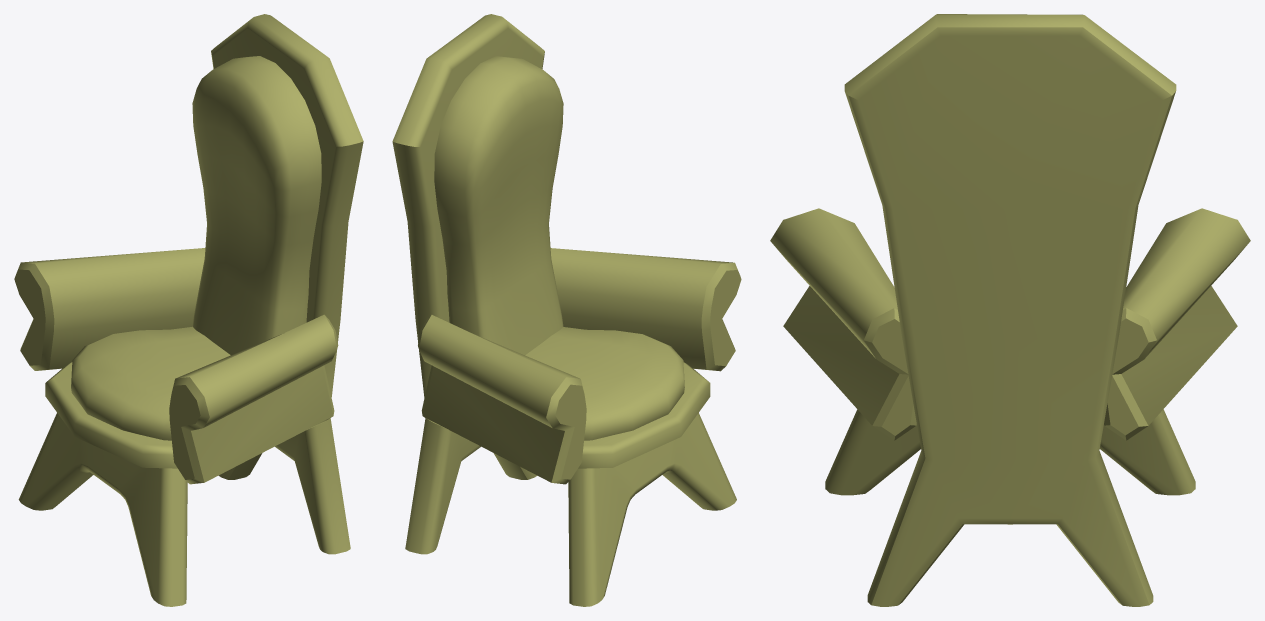
The model's file is SM_CuckChair.fbx.
3 renders of one model, left to right at view 1: azimuth 30°, elevation 25°; view 2: azimuth 150°, elevation 25°; view 3: azimuth 270°, elevation 25°, orthographic. The views are drawn at different scales.
Visible parts, largest first — view 1: SM_CuckChair; view 2: SM_CuckChair; view 3: SM_CuckChair.
Boxes of the visible parts, bbox=[...] form: SM_CuckChair: bbox=[14, 14, 363, 606]; SM_CuckChair: bbox=[392, 14, 741, 606]; SM_CuckChair: bbox=[770, 14, 1250, 606].
Size of the model in its own units: 118 by 234 by 174.
